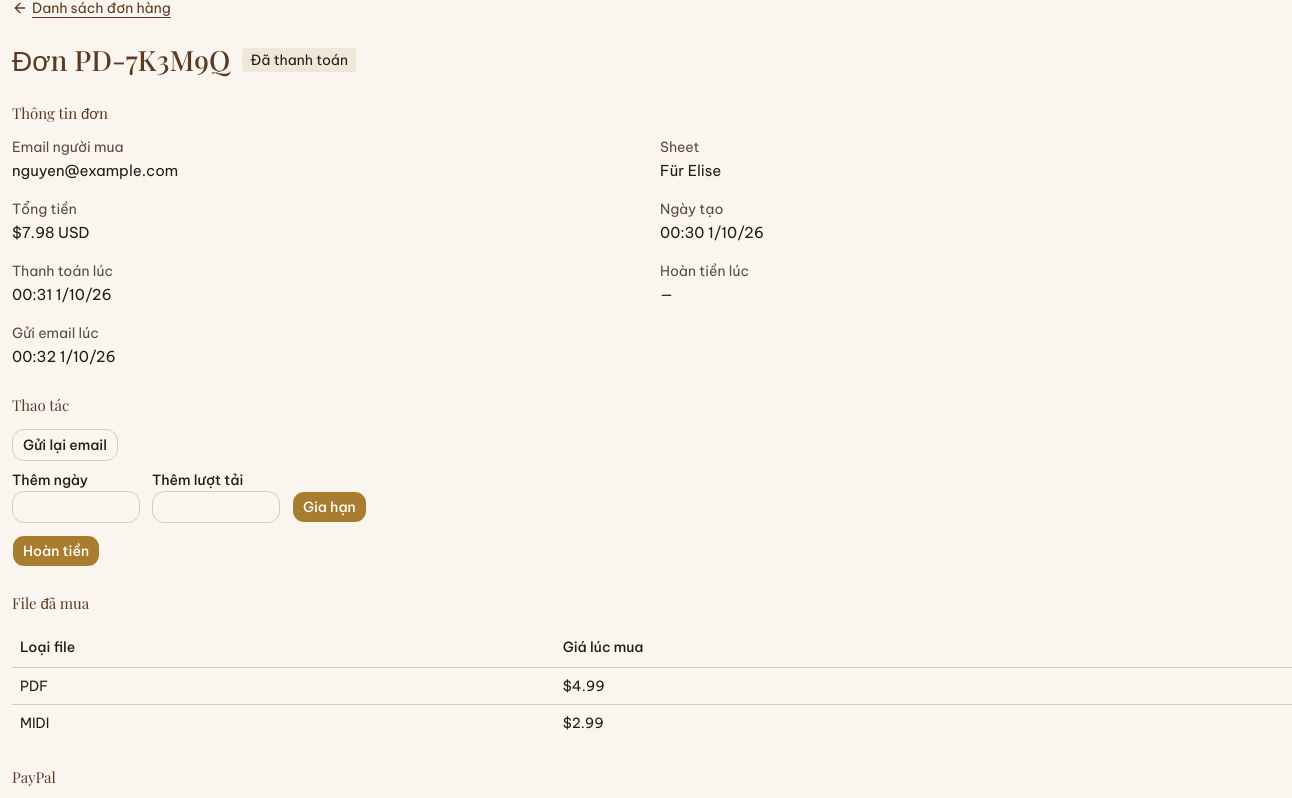
Test case: Trang /orders/[id] — gửi lại email và gia hạn (Story 4.2) › gia hạn: nút brass, gửi đúng body, cập nhật ngay thẻ token
Step 1. Type "30" into the number field labelled "Thêm ngày" → (76, 507), box [12, 491, 140, 523]
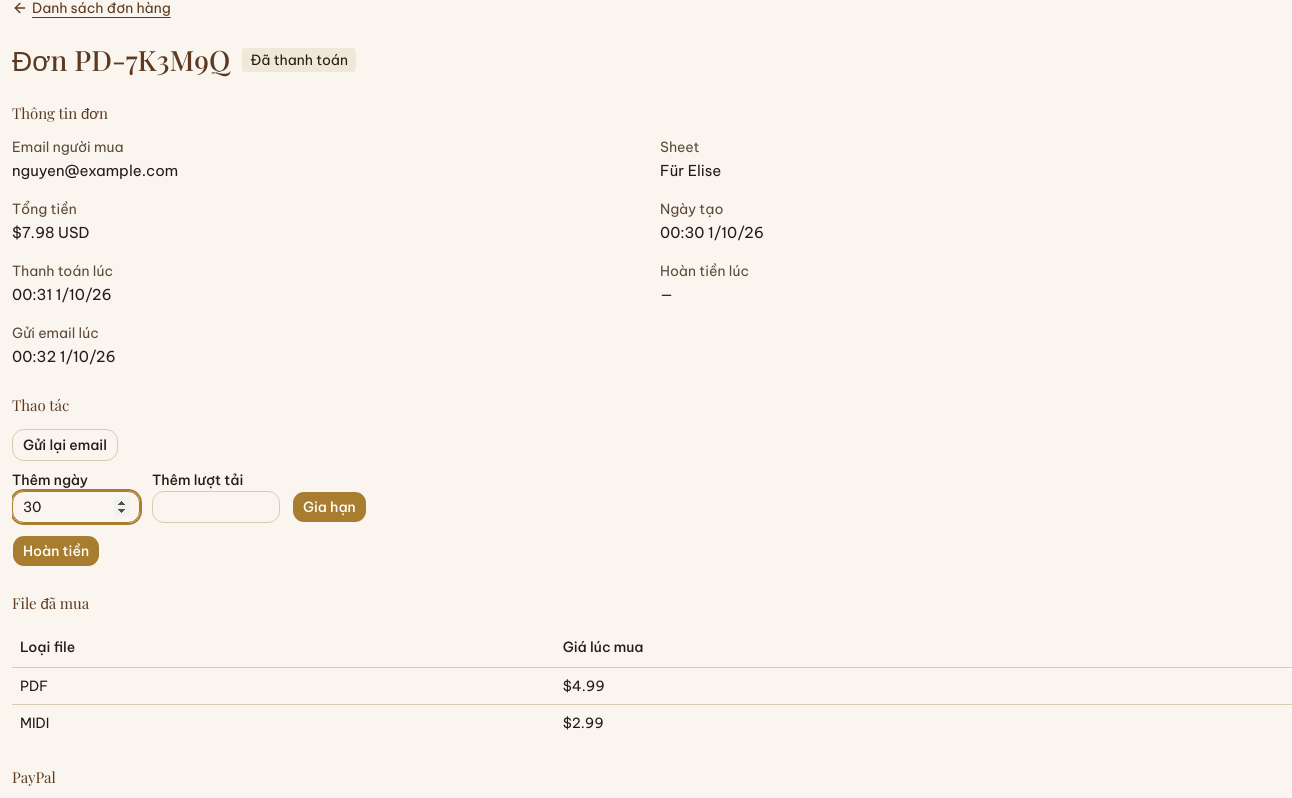
Step 2. Type "3" into the number field labelled "Thêm lượt tải" → (216, 507), box [152, 491, 280, 523]
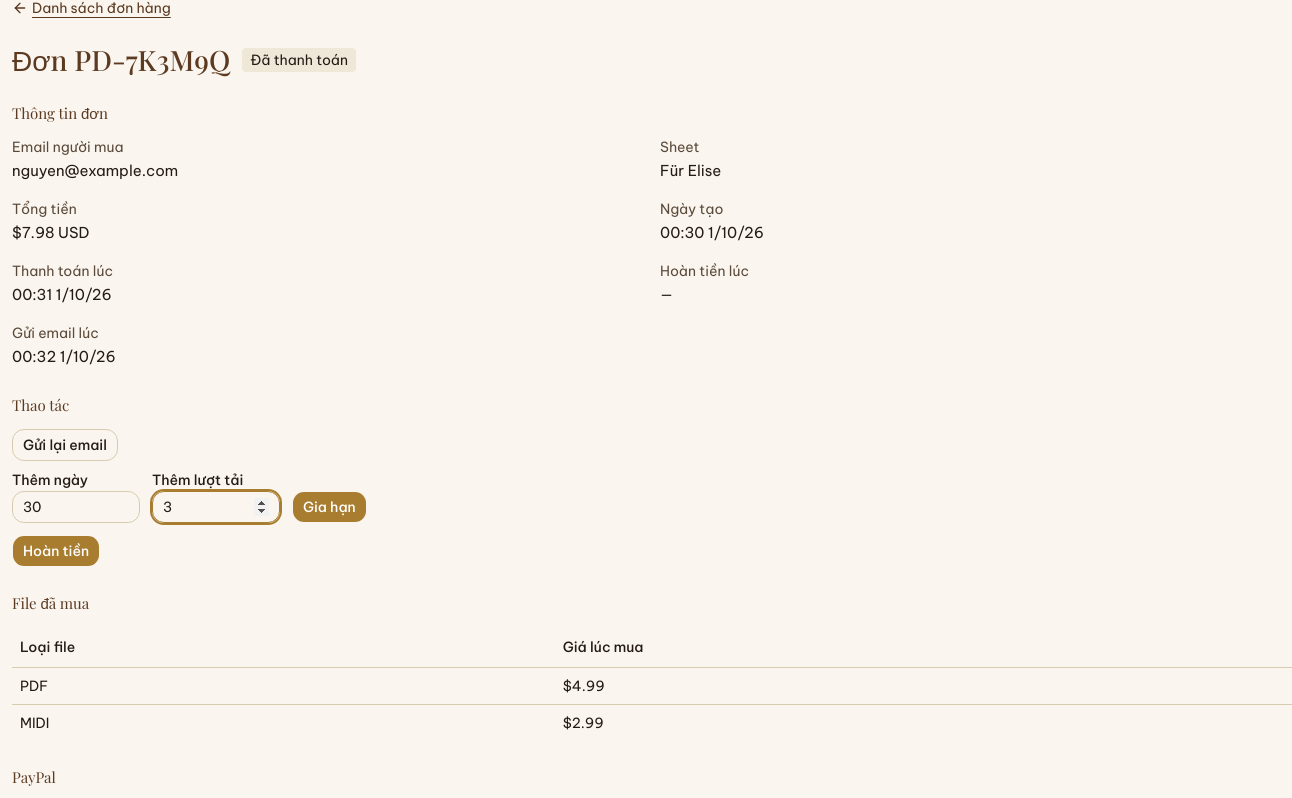
Step 3. Click the button "Gia hạn" → (329, 507), box [292, 491, 367, 523]
(page scrolled)
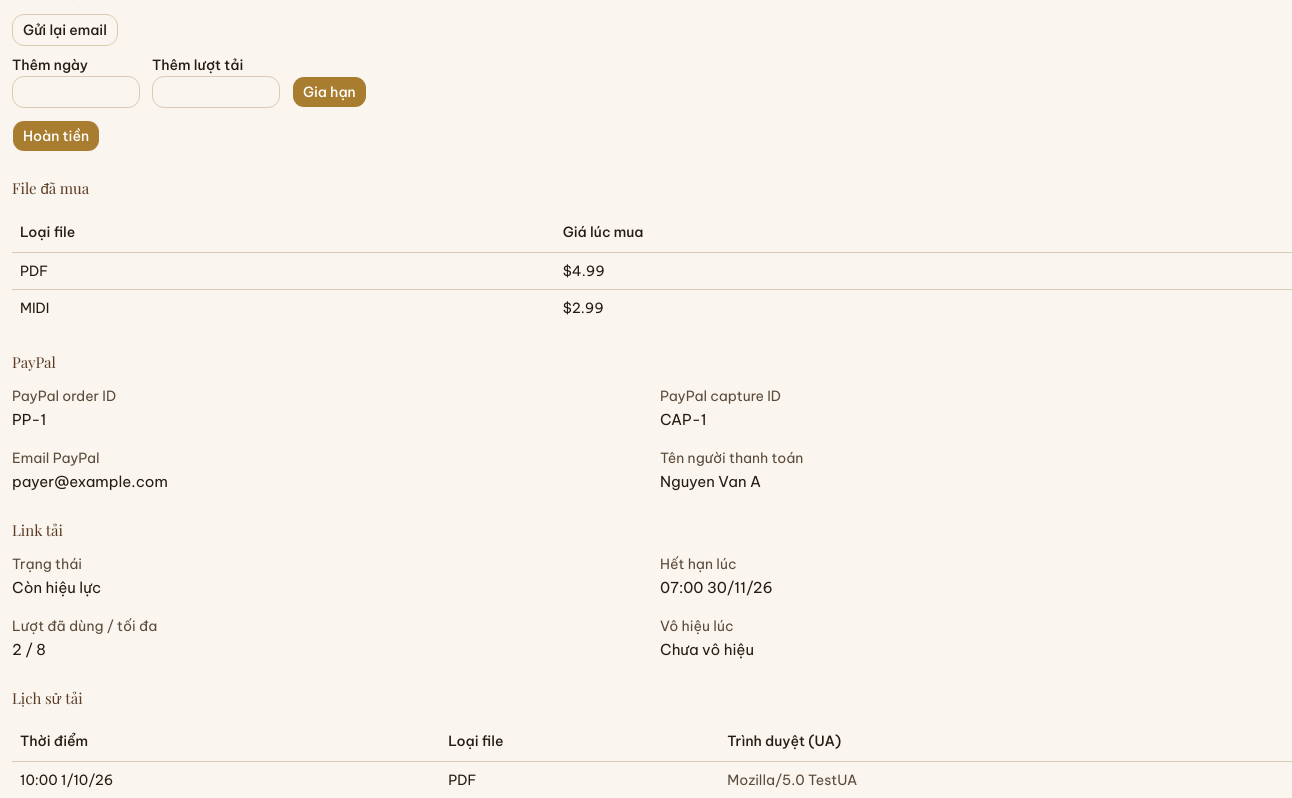
Now the text "2 / 8" is shown, box [12, 640, 46, 658]
